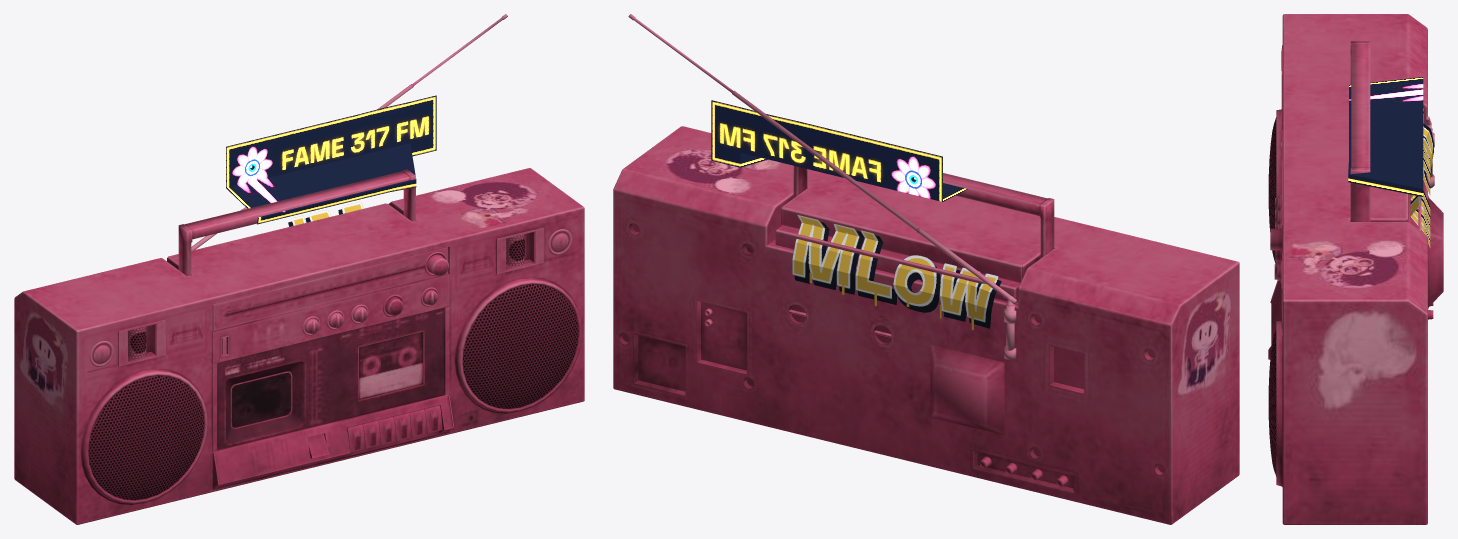
File: speaker.glb
3 renders of one model, left to right at view 1: azimuth 30°, elevation 25°; view 2: azimuth 150°, elevation 25°; view 3: azimuth 270°, elevation 25°, orthographic. The views are drawn at different scales.
Parts seen in each view (by area): view 1: boombox, stk_lbl_5806ee093a.png; view 2: boombox, stk_lbl_5806ee093a.png, stk_tag_mlow_gold.png; view 3: boombox, stk_lbl_5806ee093a.png, stk_tag_mlow_gold.png.
Part boxes in pixels (bbox=[...]): boombox: bbox=[14, 14, 584, 524]; stk_lbl_5806ee093a.png: bbox=[226, 95, 436, 224]; boombox: bbox=[613, 14, 1239, 524]; stk_lbl_5806ee093a.png: bbox=[711, 100, 967, 201]; stk_tag_mlow_gold.png: bbox=[792, 215, 1001, 330]; boombox: bbox=[1268, 14, 1443, 524]; stk_lbl_5806ee093a.png: bbox=[1348, 77, 1424, 196]; stk_tag_mlow_gold.png: bbox=[1410, 124, 1434, 247].
Size of the model in its own units: 0.7238 by 0.4701 by 0.1865.
4 materials, 4 textured.
